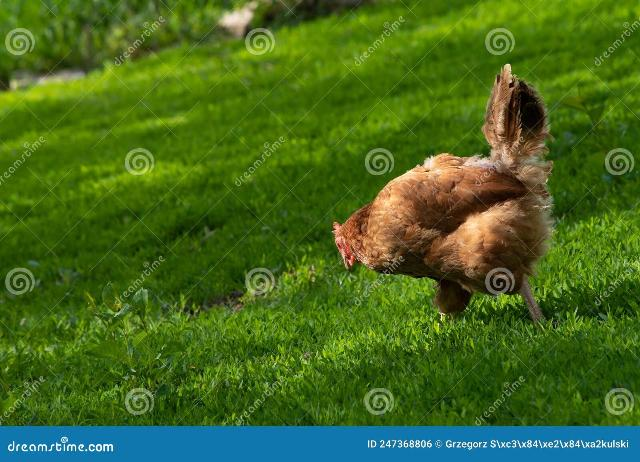Chicken: (332, 62, 554, 326)
